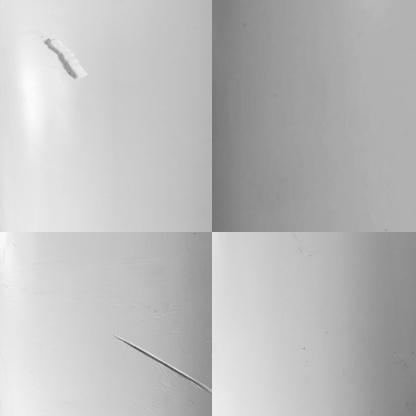sunshang: (113, 329, 216, 395), (43, 37, 92, 81)
